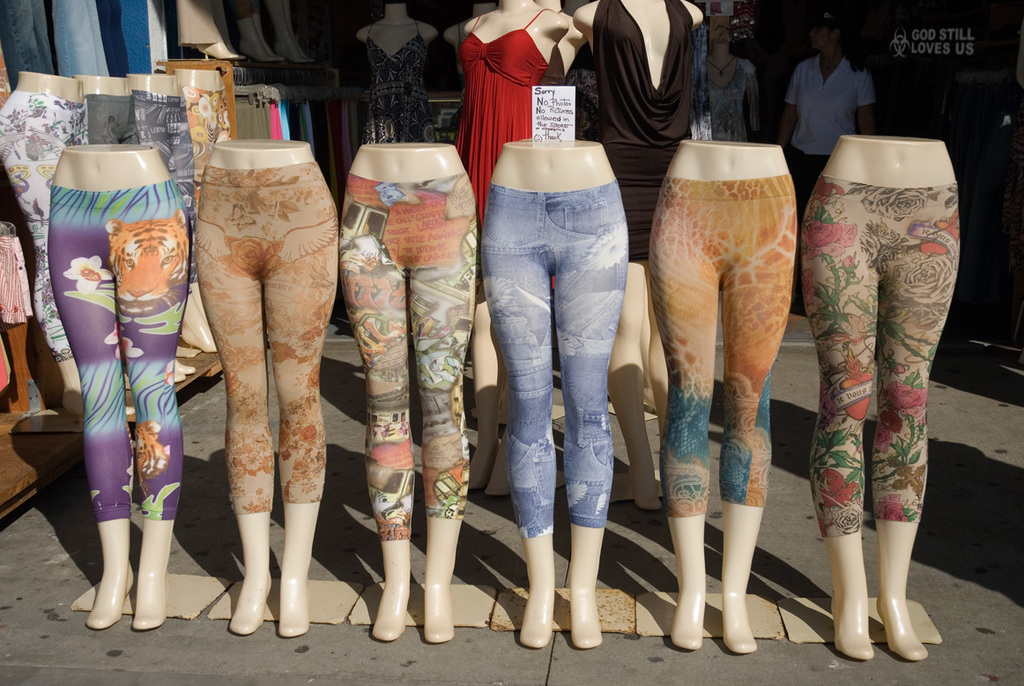person: (776, 11, 877, 311)
